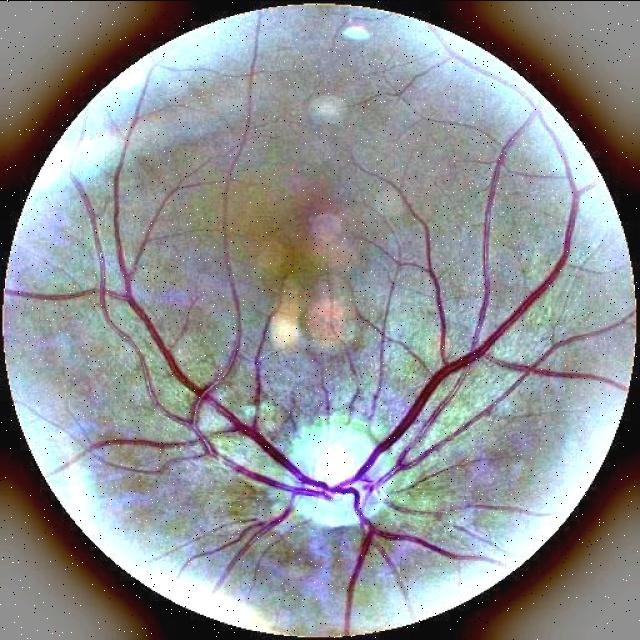Macula: (265, 184, 377, 271)
Nerves: (172, 288, 543, 577)
Optic Disk: (245, 397, 403, 546)
